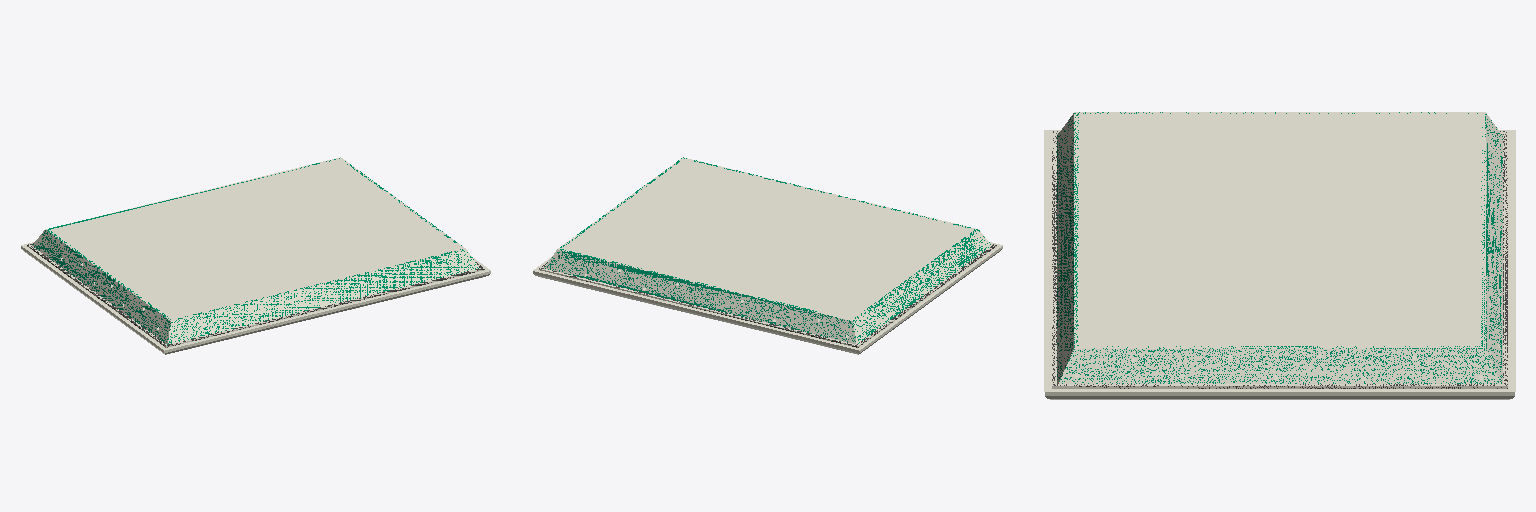
robot.urdf — fridge:
<?xml version="1.0" ?>
<robot name="fridge">
	<link name="base"/>
	<link name="link_0">
		<visual name="out-frame">
			<origin xyz="0 0 0"/>
			<geometry>
				<mesh filename="texture_dae/frame.dae" scale="0.7 0.7 0.7"/>
			</geometry>
		</visual>
		<collision>
			<origin xyz="0 0 0"/>
			<geometry>
				<mesh filename="texture_dae/frame.dae" scale="0.7 0.7 0.7"/>
			</geometry>
		</collision>
	</link>
	<joint name="joint_0" type="fixed">
		<origin rpy="1.570796326794897 0 -1.570796326794897" xyz="0 0 0"/>
		<child link="link_0"/>
		<parent link="base"/>
	</joint>
	<link name="link_1">
		<visual name="surf-board">
			<origin xyz="0.5556167714566627 -0.32549146593092926 0"/>
			<geometry>
				<mesh filename="texture_dae/board.dae" scale="0.7 0.7 0.7"/>
			</geometry>
		</visual>
		<collision>
			<origin xyz="0.5556167714566627 -0.32549146593092926 0"/>
			<geometry>
				<mesh filename="texture_dae/board.dae" scale="0.7 0.7 0.7"/>
			</geometry>
		</collision>
	</link>
	<joint name="joint_1" type="revolute">
		<origin xyz="-0.5556167714566627 0.32549146593092926 0"/>
		<axis xyz="0 -1 0"/>
		<child link="link_1"/>
		<parent link="link_0"/>
		<limit lower="0" upper="1.5079644737231006"/>
	</joint>
	<link name="link_2">
		<visual name="handle">
			<origin xyz="0 0 0"/>
			<geometry>
				<mesh filename="texture_dae/9961503.dae" scale="0.7 0.7 0.7"/>
			</geometry>
		</visual>
		<collision>
			<origin xyz="0 0 0"/>
			<geometry>
				<mesh filename="texture_dae/9961503.dae" scale="0.7 0.7 0.7"/>
			</geometry>
		</collision>
	</link>
	<joint name="joint_2" type="revolute">
		<origin xyz="0.5556167714566627 -0.32549146593092926 0.0305585833754622"/>
		<child link="link_2"/>
		<parent link="link_1"/>
		<axis xyz="0 0 1"/>
		<limit lower="0" upper="1.5079644737231006"/>
	</joint>
</robot>

--- What the picture shows (computed from the rendered views, not written in the file) ---
Views: 3 orthographic renders of the robot side by side, from view 1: azimuth 30°, elevation 25°; view 2: azimuth 150°, elevation 25°; view 3: azimuth 270°, elevation 25°.
Model fridge with 4 links and 3 joints (2 revolute, 1 fixed), rooted at base, posed every joint at zero.
Links seen in each view (by area): view 1: link_1; view 2: link_1; view 3: link_1.
Boxes of the visible links, x1,y1,x2,y2 form: link_1: (21,157,490,354); link_1: (533,157,1002,354); link_1: (1044,112,1515,399).
Bounding box of the posed robot: 0.8254 × 0.6287 × 0.0857 m (x, y, z).
2 mesh visuals loaded from 3 distinct referenced files (2 Collada DAE); not drawn: 1 (file found but could not be loaded).
